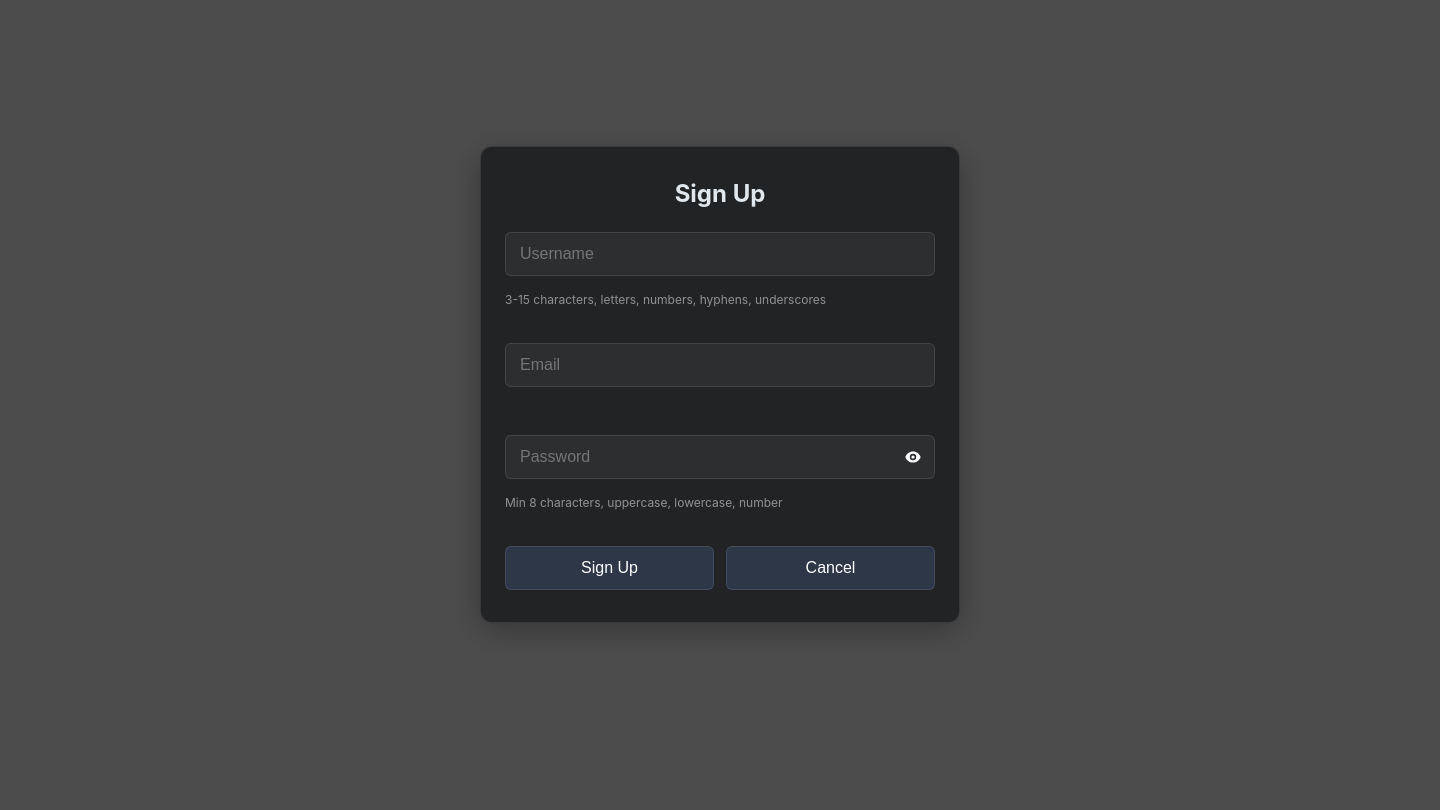
Test: SignupModal › clears error when user starts typing
# Submit with empty email to trigger error
Click the button "Sign Up".
click(610, 568)  # box [505, 546, 714, 590]
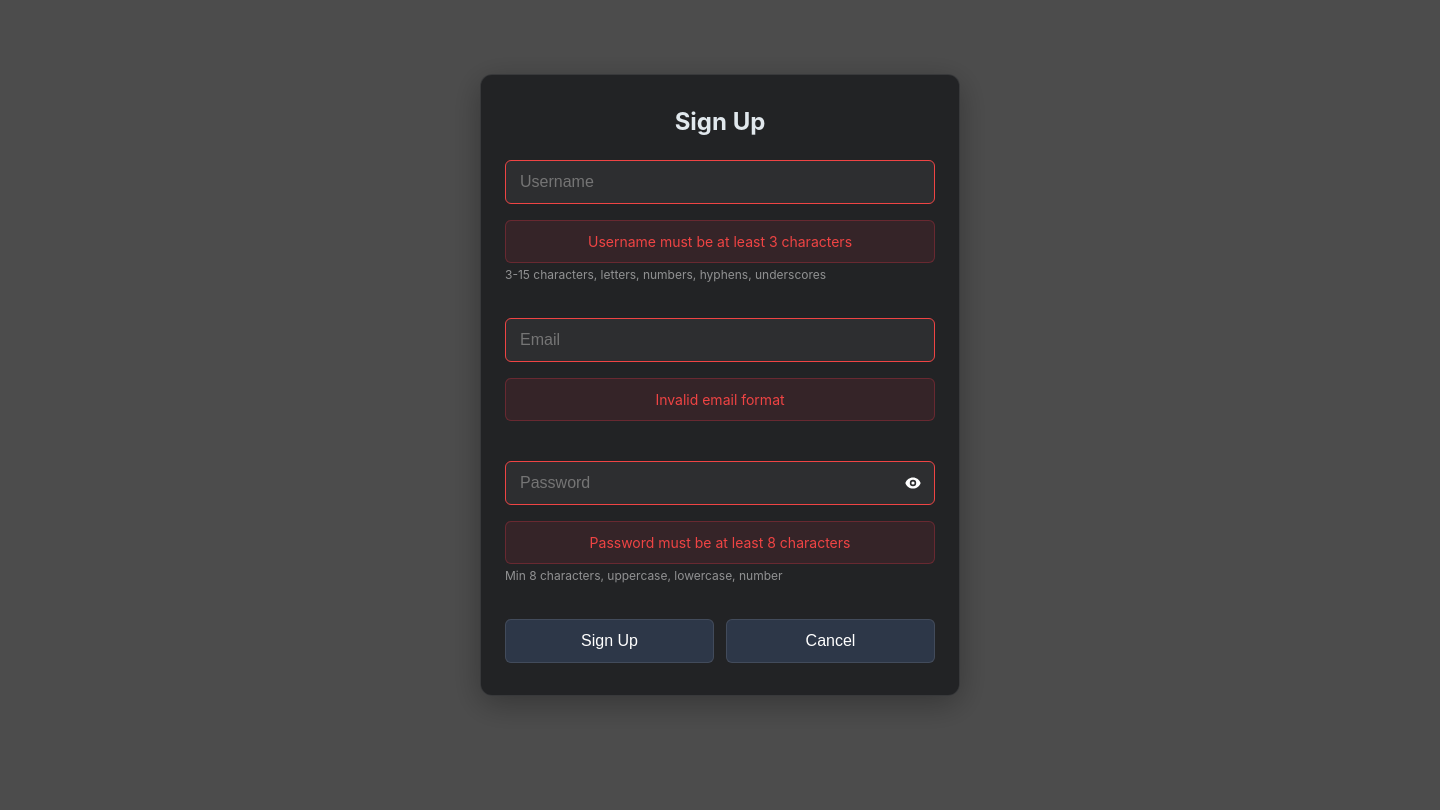
Now the text "Invalid email format" is shown, box [505, 378, 935, 421]
# Start typing - error should clear
Type "t" into the field with placeholder "Email".
click(720, 340); type("t")  # box [505, 318, 935, 362]
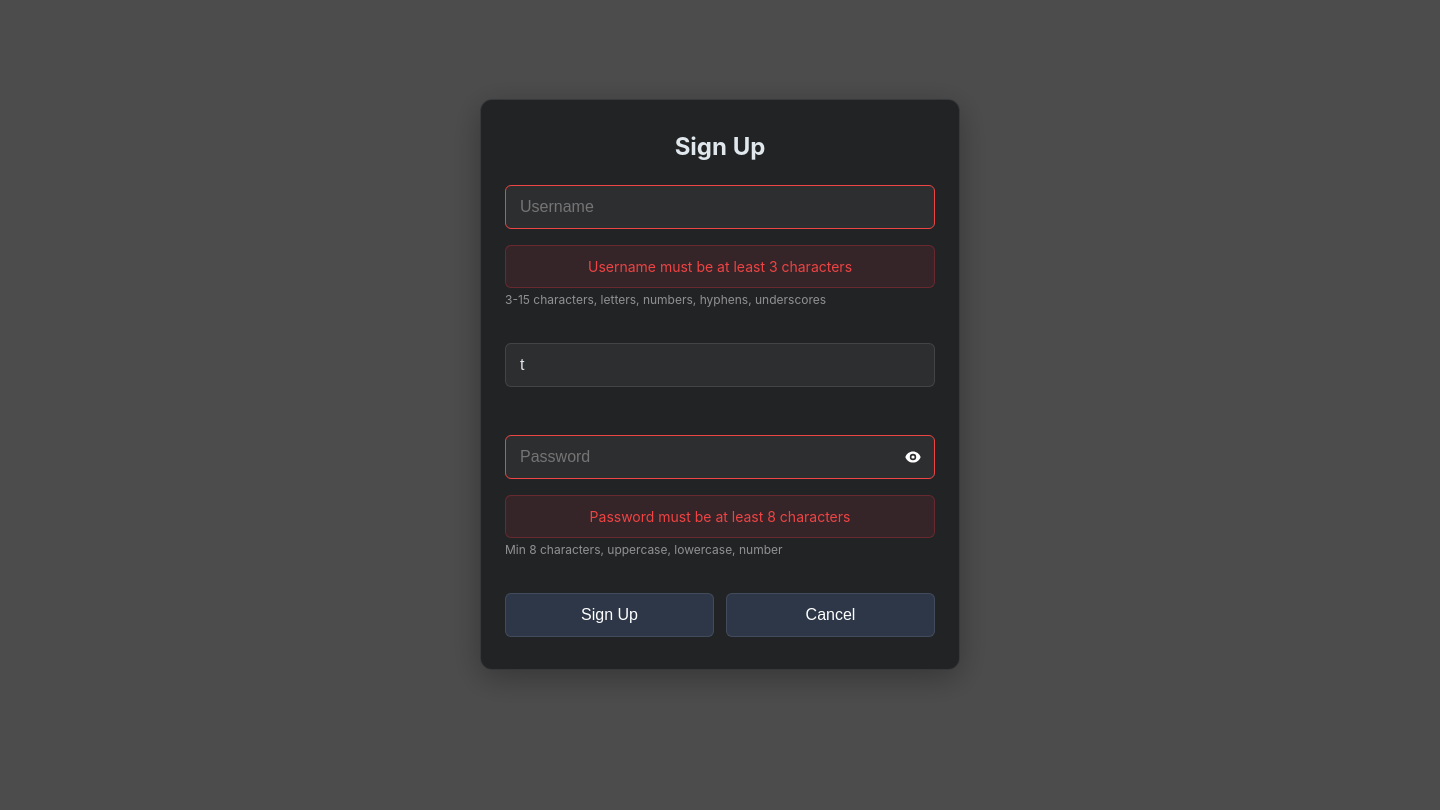
Now the text "Invalid email format" is gone
